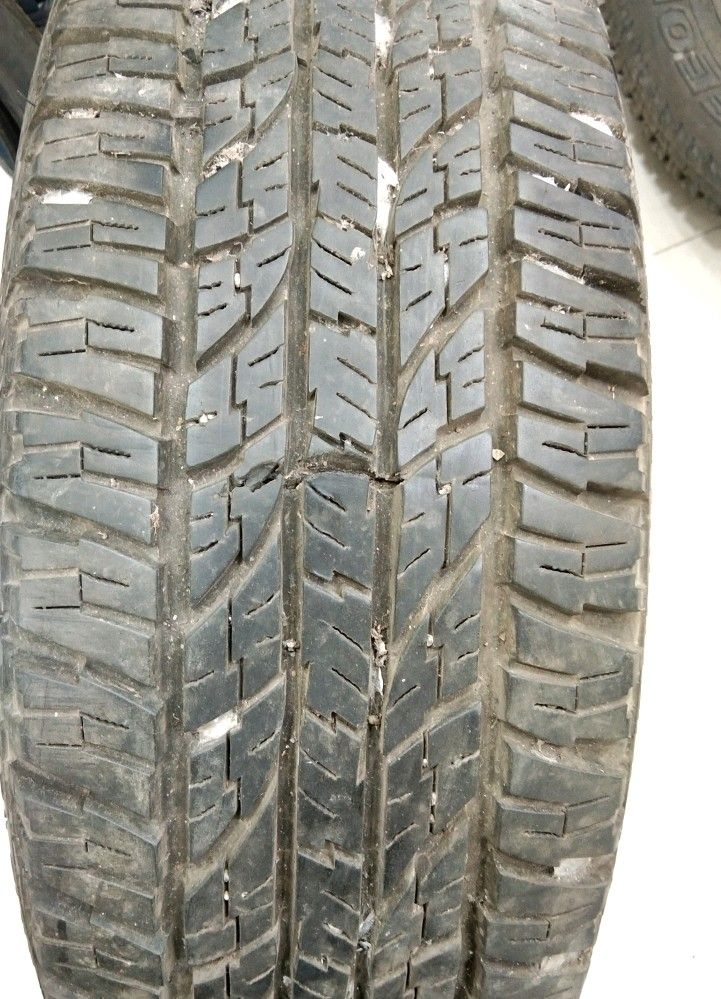tr: (231, 443, 415, 495)
